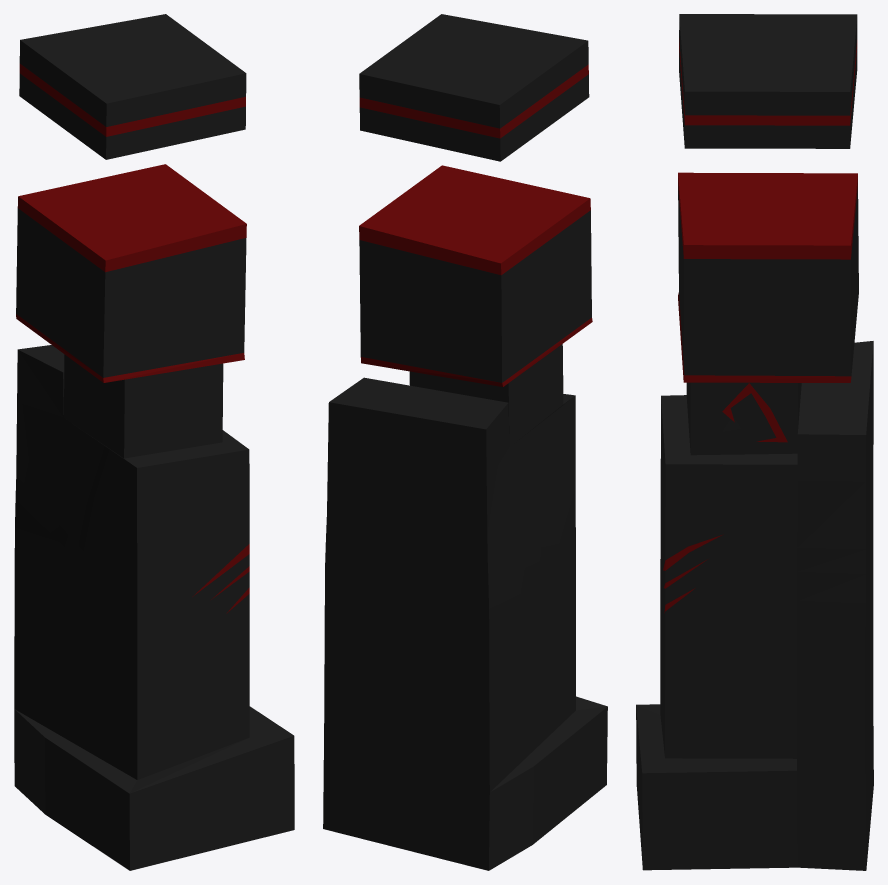
Rendered from Nexus.FBX.
3 views of the same model, side by side, from view 1: azimuth 30°, elevation 25°; view 2: azimuth 150°, elevation 25°; view 3: azimuth 270°, elevation 25° (orthographic). The views are drawn at different scales.
Parts seen in each view (by area): view 1: Nexus, Nexus_Plateform; view 2: Nexus, Nexus_Plateform; view 3: Nexus, Nexus_Plateform.
Boxes of the visible parts, left/top/right/bottom form: Nexus: left=14, top=164, right=294, bottom=870; Nexus_Plateform: left=19, top=14, right=246, bottom=159; Nexus: left=323, top=165, right=607, bottom=870; Nexus_Plateform: left=359, top=14, right=589, bottom=161; Nexus: left=636, top=172, right=873, bottom=870; Nexus_Plateform: left=679, top=14, right=857, bottom=148.
Bounding box in the file's own units: 1.24 × 5.1 × 1.42.
